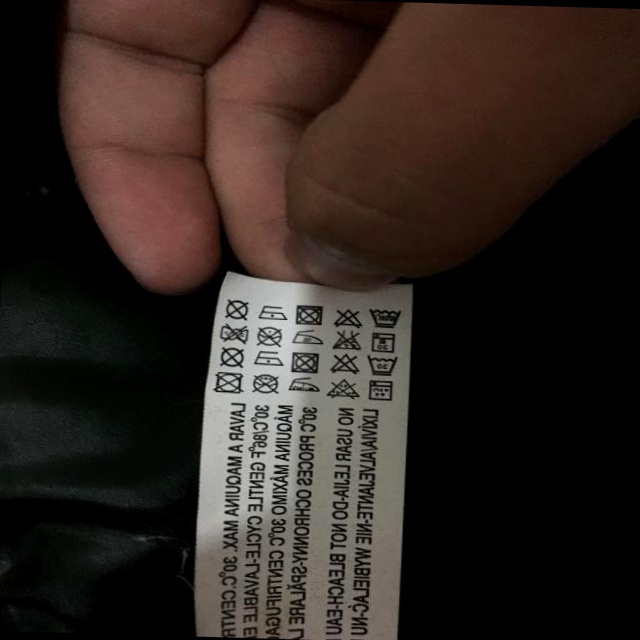30C: (367, 303, 402, 328), (365, 352, 401, 375), (365, 378, 395, 404), (369, 326, 395, 354)
DN_bleach: (327, 375, 360, 400), (328, 352, 362, 376), (333, 306, 362, 329)
DN_dry_clean: (216, 341, 246, 371), (252, 369, 281, 395), (223, 293, 250, 320), (254, 324, 284, 346)
DN_tumble_dry: (293, 299, 326, 329), (288, 349, 321, 375), (215, 368, 243, 396)
DN_wring: (214, 322, 250, 344)
iron: (291, 327, 323, 346)
iron_low: (288, 374, 321, 396), (255, 303, 287, 324), (251, 345, 281, 367)
